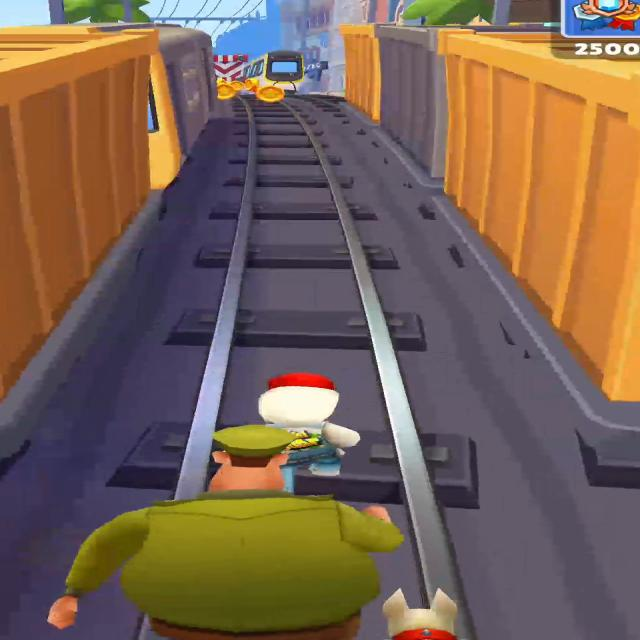jump-barrier: (213, 54, 247, 81)
police: (57, 425, 393, 640)
train: (336, 26, 636, 407), (0, 29, 215, 395), (259, 51, 307, 89)
